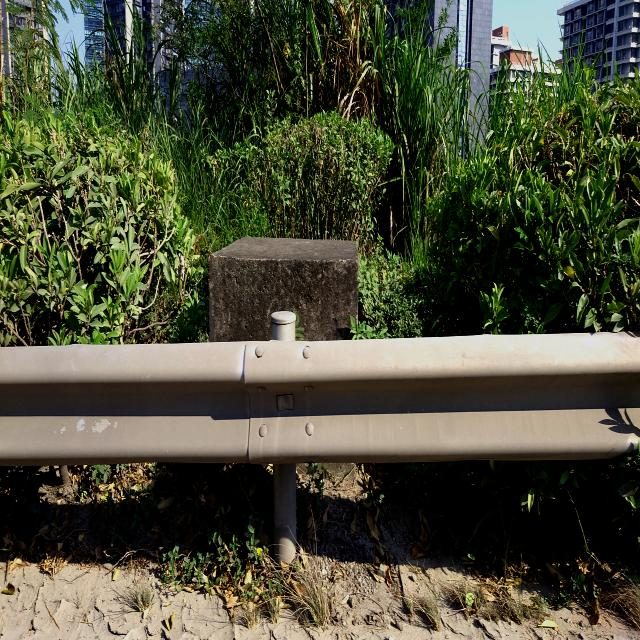Guard rail: (0, 333, 640, 464)
Tree: (430, 71, 640, 333), (0, 113, 198, 347)
